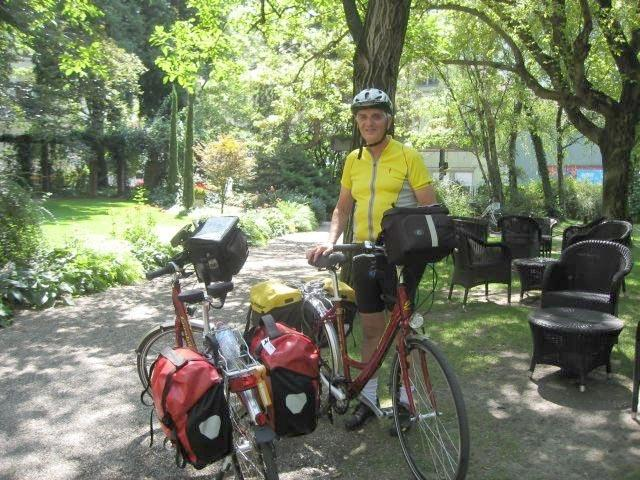non-vehicle: (285, 240, 468, 479), (134, 253, 280, 479)
